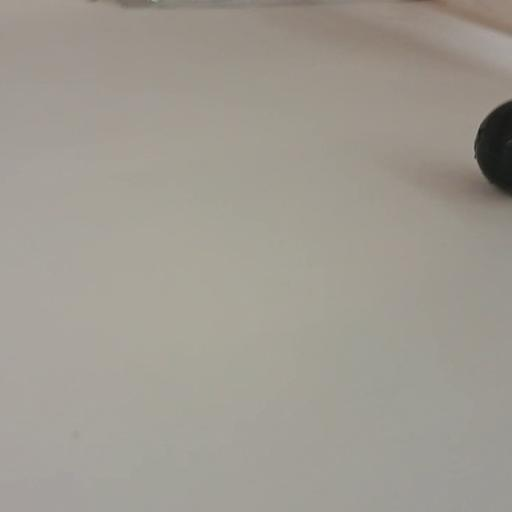dead: (473, 94, 512, 192)
